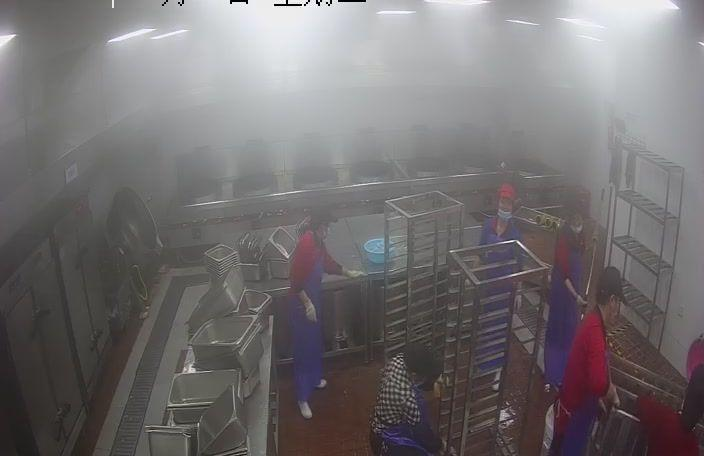mask: (495, 207, 515, 221), (568, 219, 584, 234)
